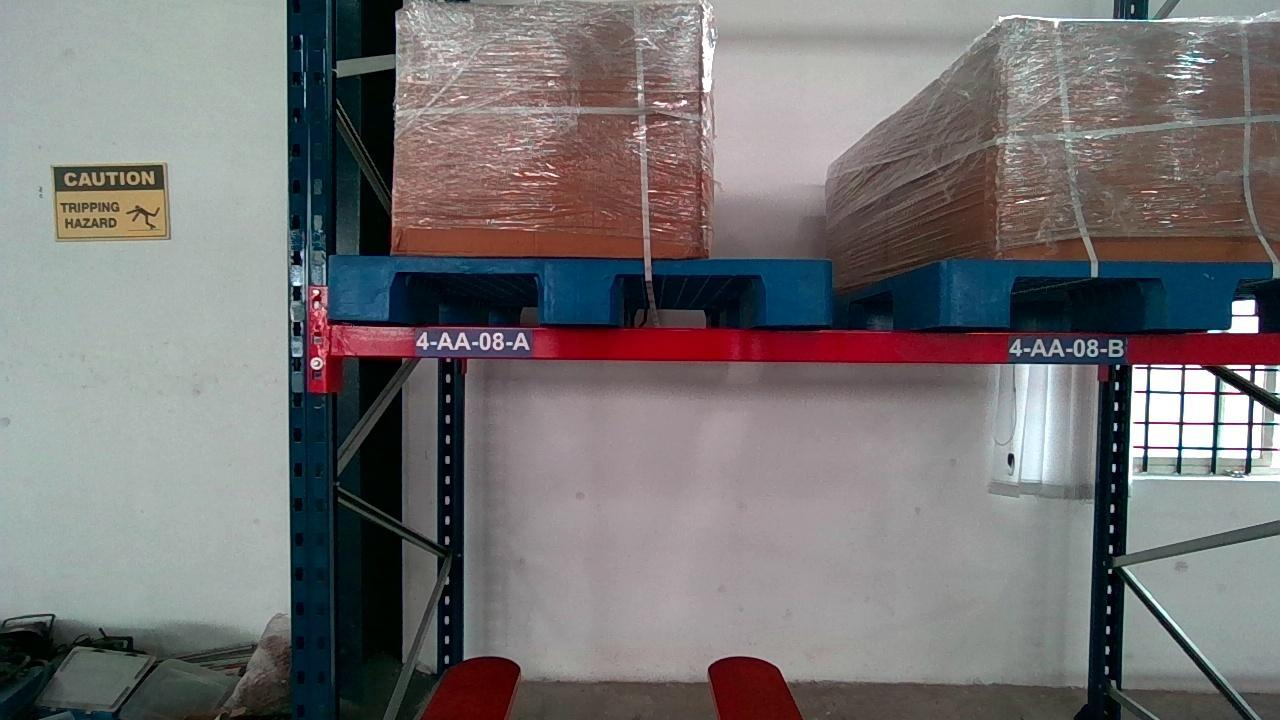h_rack: (319, 324, 1279, 364)
small_pallet: (326, 256, 831, 319), (950, 266, 1280, 328)
